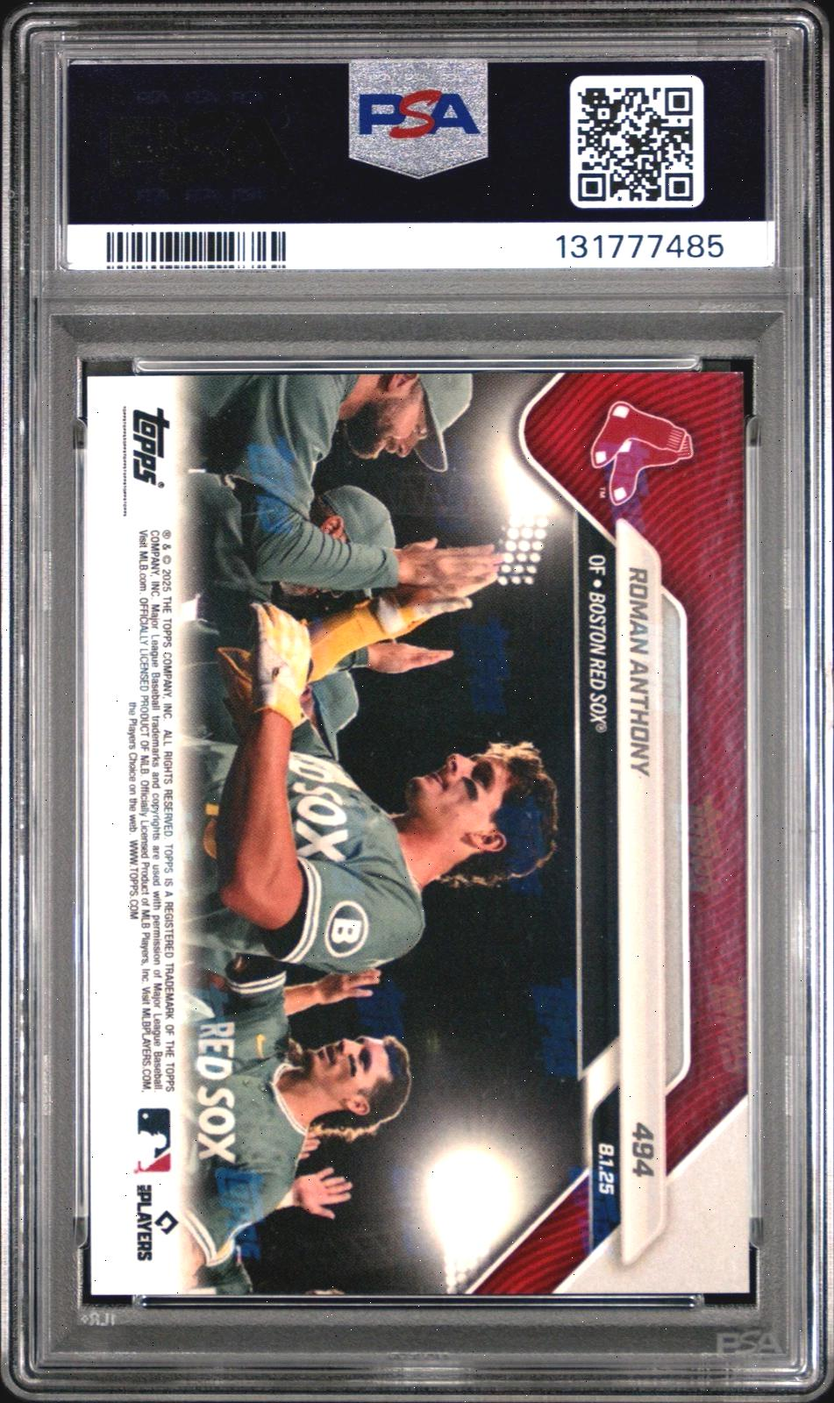card-2UtV: (86, 371, 750, 1295)
